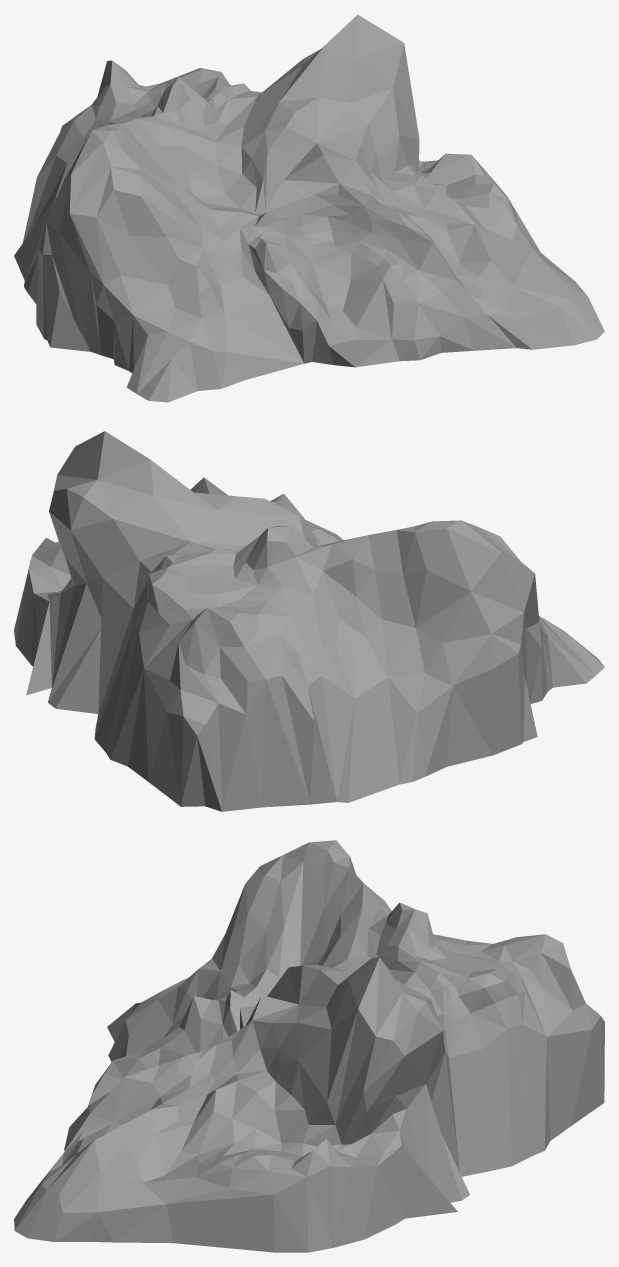
Rendered from mountains_005.glb.
The picture shows the model from 3 angles, top to bottom: view 1: azimuth 30°, elevation 25°; view 2: azimuth 150°, elevation 25°; view 3: azimuth 270°, elevation 25°; orthographic projection. The views are drawn at different scales.
Visible parts, largest first — view 1: mountains_005; view 2: mountains_005; view 3: mountains_005.
Boxes of the visible parts, <box> form: mountains_005: <box>14,14,604,402</box>; mountains_005: <box>14,431,604,811</box>; mountains_005: <box>14,840,604,1252</box>.
Size of the model in its own units: 64.17 by 29.21 by 66.08.
Materials: 1 (1 with a texture image).
